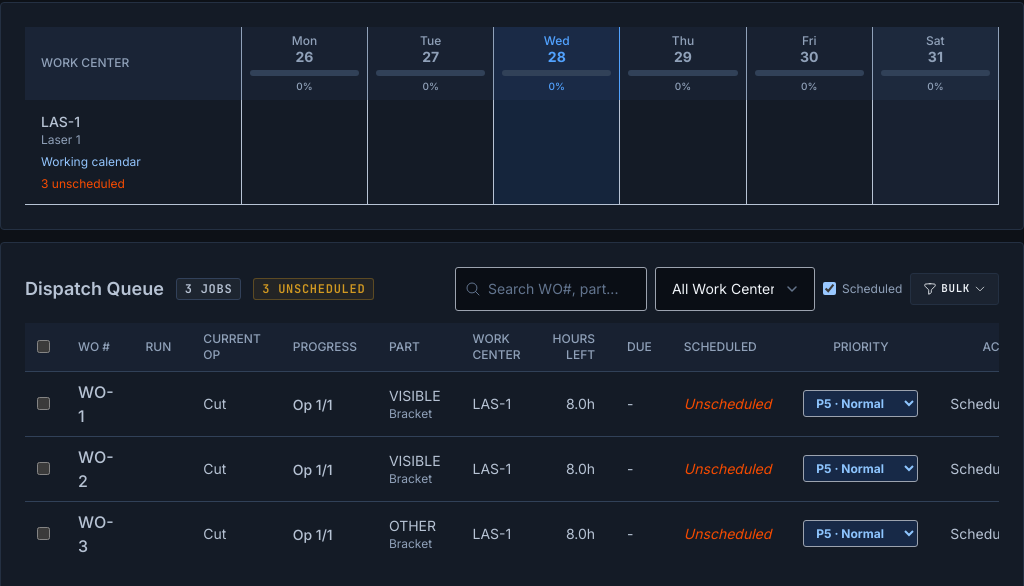
Test: previews only selected visible jobs, displays exact changes and risks, and writes only the reviewed plan
(page scrolled)
Expected: the text "WO-1" is shown, [62,371,130,436]
Click the checkbox named "Select all visible work orders" at (44, 346), box [37,340,50,352]
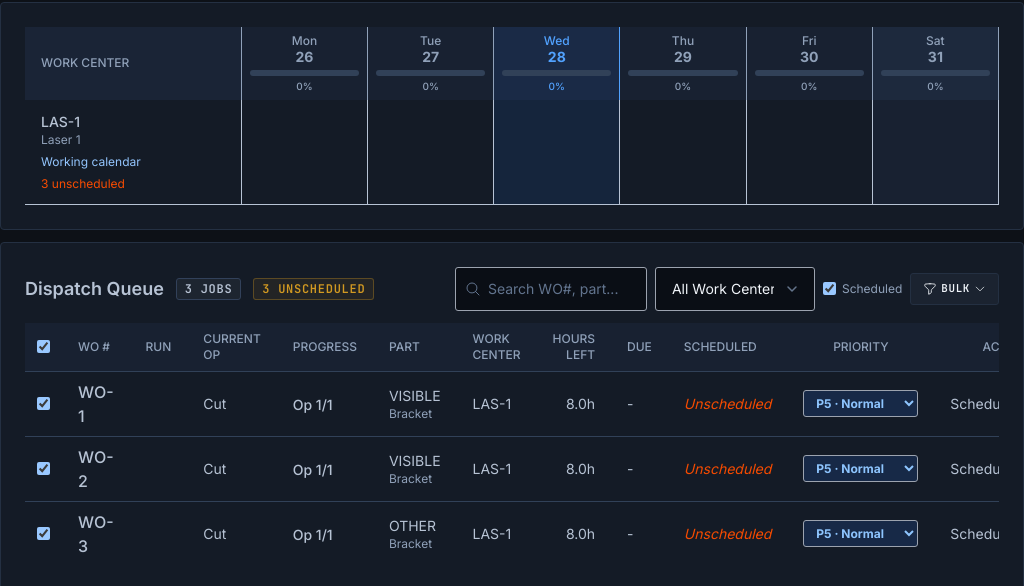
Type "VISIBLE" into the field with placeholder "Search WO#, part..." at (551, 288), box [455,266,647,310]
(page scrolled)
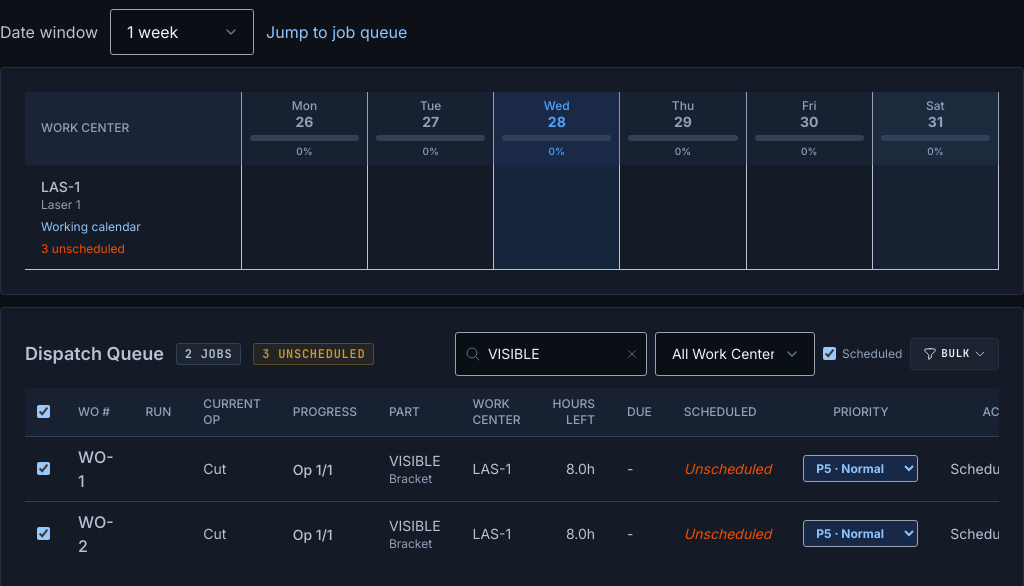
Click the button "Bulk" at (955, 354), box [910,338,999,370]
(page scrolled)
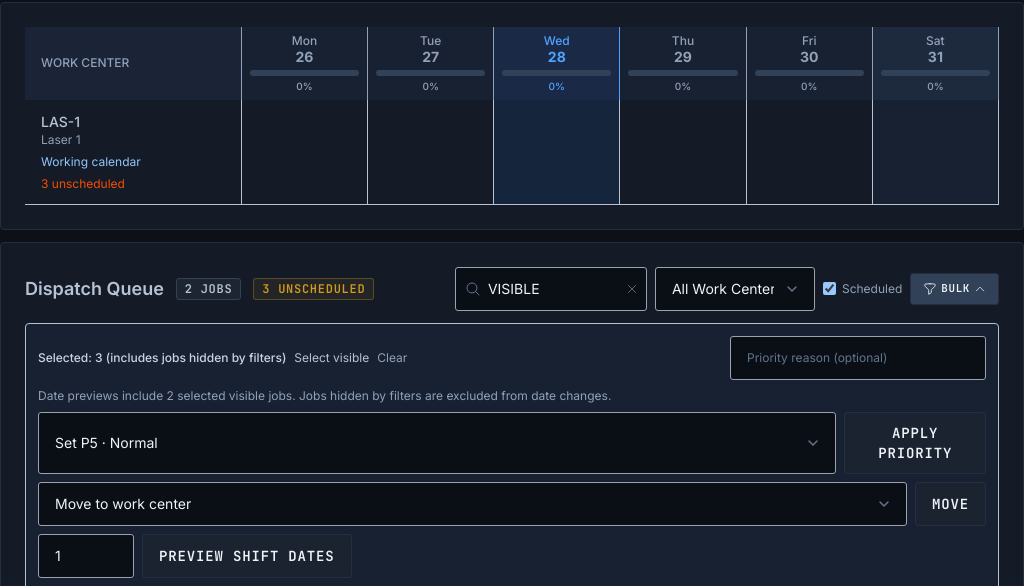
Replace the text in the number field named "Shift dates by days" with "2" at (86, 556), box [38,534,134,578]
Click the button "Preview Shift Dates" at (247, 556), box [142,534,352,578]
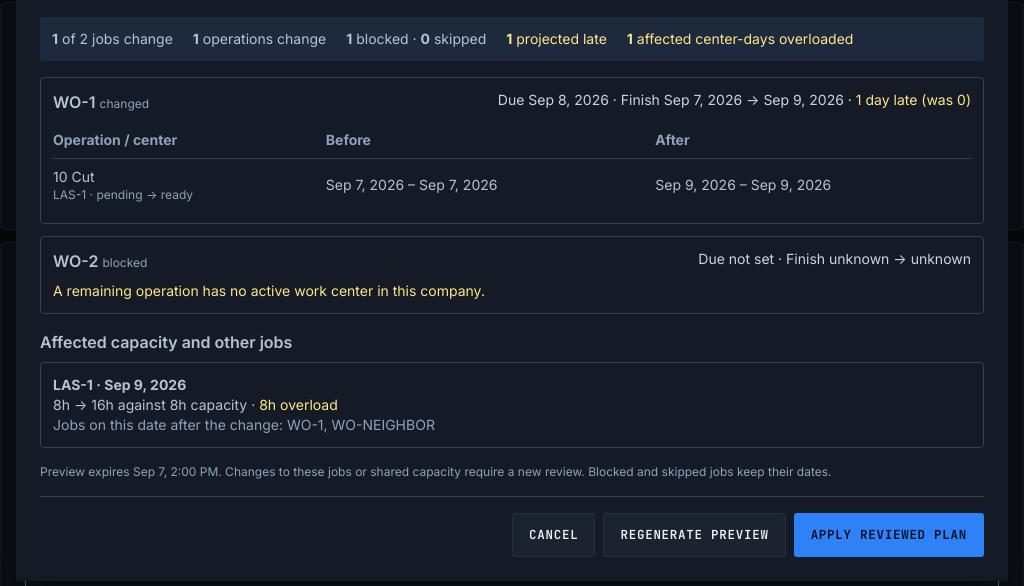
Result: the text "WO-NEIGHBOR" is shown at [287,416,435,433]
Result: the text "Sep 7, 2026 – Sep 7, 2026" is shown at [326,159,655,211]
Result: the text "Sep 9, 2026 – Sep 9, 2026" is shown at [655,159,971,211]
Click the button "Apply reviewed plan" at (889, 535), box [794,513,984,557]
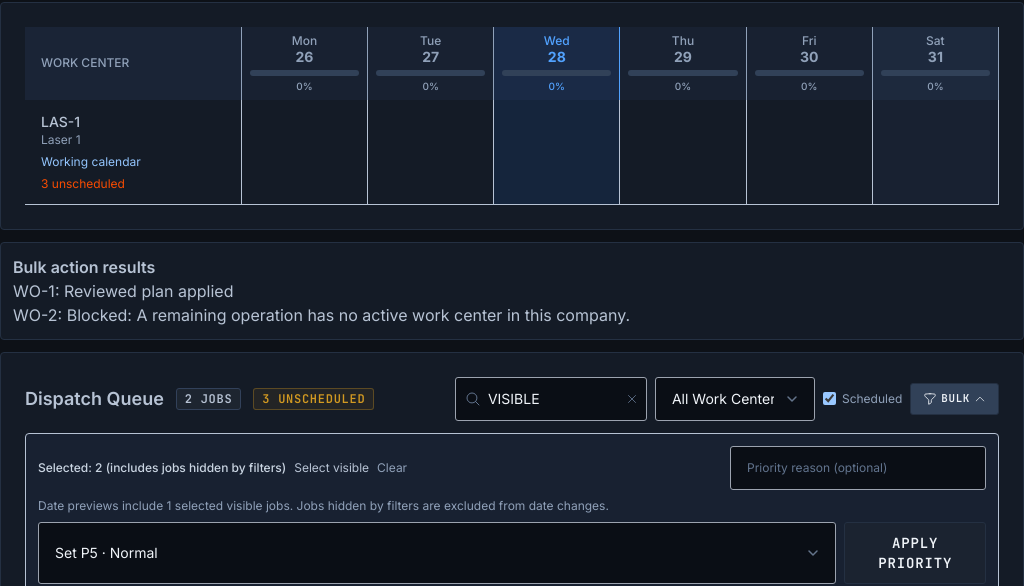
Result: the list item "WO-2: Blocked: A remaining operation" is shown at [13,304,630,324]
Clear the field with placeholder "Search WO#, part..." at (551, 398), box [455,376,647,420]
(page scrolled)
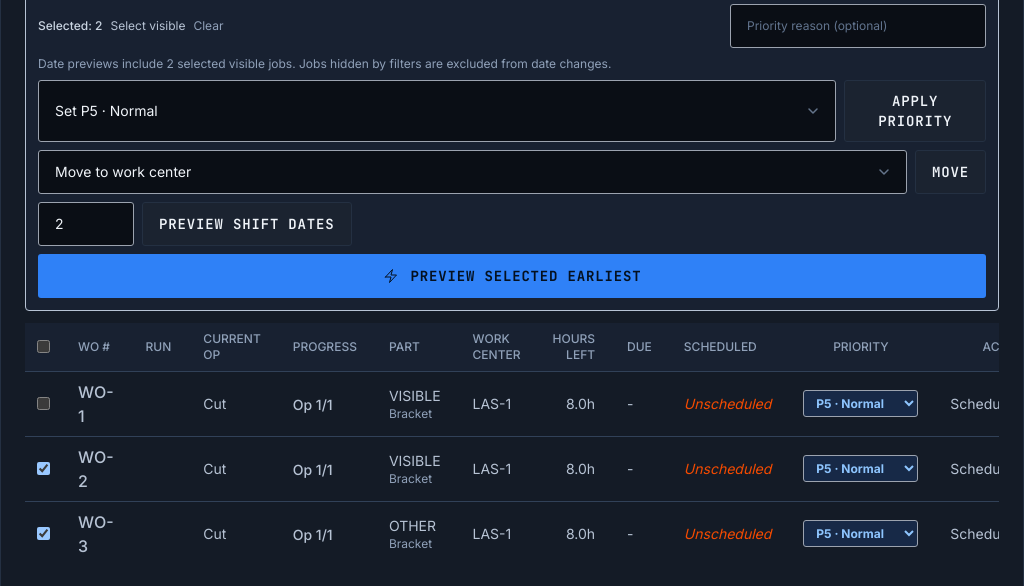
Result: the checkbox named "Select work order WO-3" is checked at [37,526,50,540]
